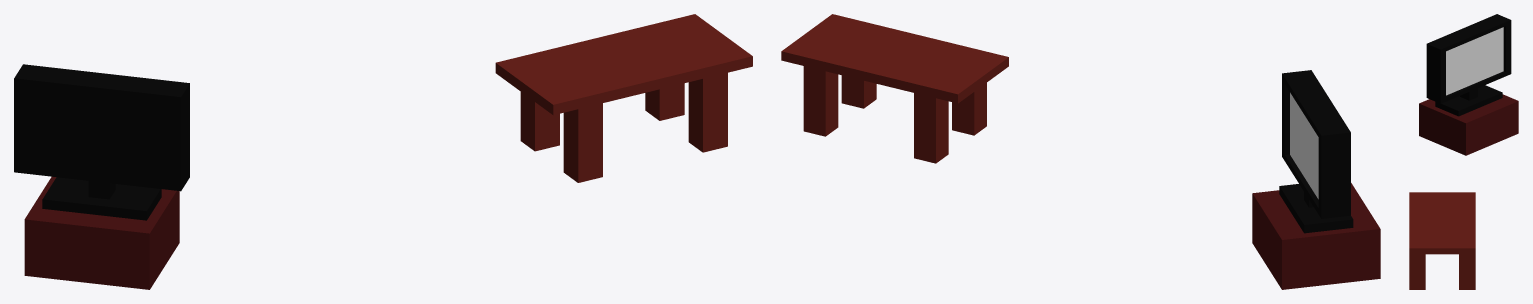
File: RoomFur.fbx
3 views of the same model, side by side, from view 1: azimuth 30°, elevation 25°; view 2: azimuth 150°, elevation 25°; view 3: azimuth 270°, elevation 25° (orthographic). The views are drawn at different scales.
Parts seen in each view (by area): view 1: TV, Table.002; view 2: TV, Table.002; view 3: TV, Table.002.
Part boxes in pixels (<box>): TV: <box>14,64,189,289</box>; Table.002: <box>495,14,752,182</box>; TV: <box>1252,70,1380,289</box>; Table.002: <box>781,14,1008,163</box>; TV: <box>1419,14,1518,155</box>; Table.002: <box>1409,192,1475,289</box>.
Size of the model in its own units: 675 by 171 by 165.
